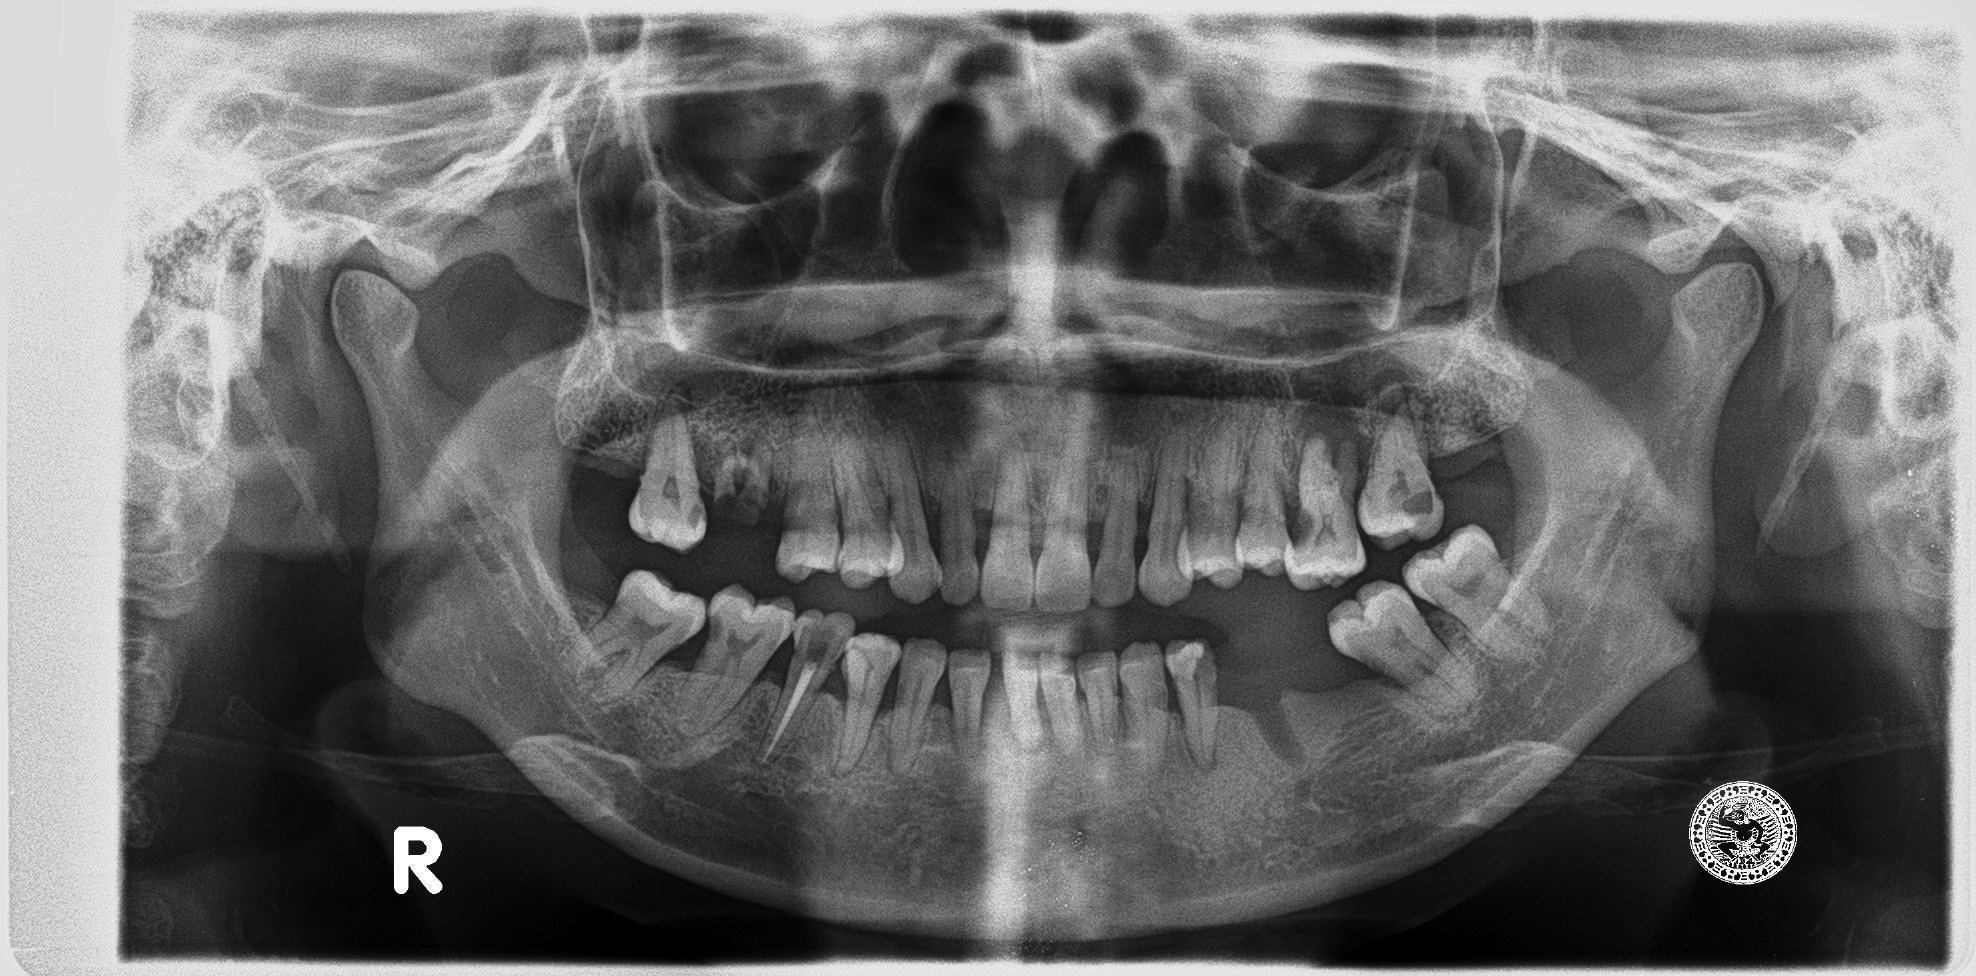Individual Tooth: (1400, 523, 1551, 656), (566, 567, 707, 705), (1330, 580, 1476, 711), (678, 585, 796, 741), (1358, 385, 1444, 549), (760, 610, 853, 760), (1285, 431, 1365, 594), (630, 392, 707, 551), (1178, 427, 1245, 588), (1035, 426, 1091, 612), (832, 446, 902, 588), (775, 439, 842, 581), (883, 443, 941, 604), (834, 633, 901, 773), (979, 449, 1035, 610), (1235, 431, 1292, 575), (1139, 455, 1193, 605), (890, 639, 946, 773), (1164, 638, 1219, 769), (1091, 468, 1140, 607), (1119, 642, 1168, 764), (938, 467, 979, 607), (715, 431, 771, 521), (946, 649, 991, 760), (1038, 654, 1084, 752), (1077, 651, 1119, 750), (1002, 646, 1041, 749)
